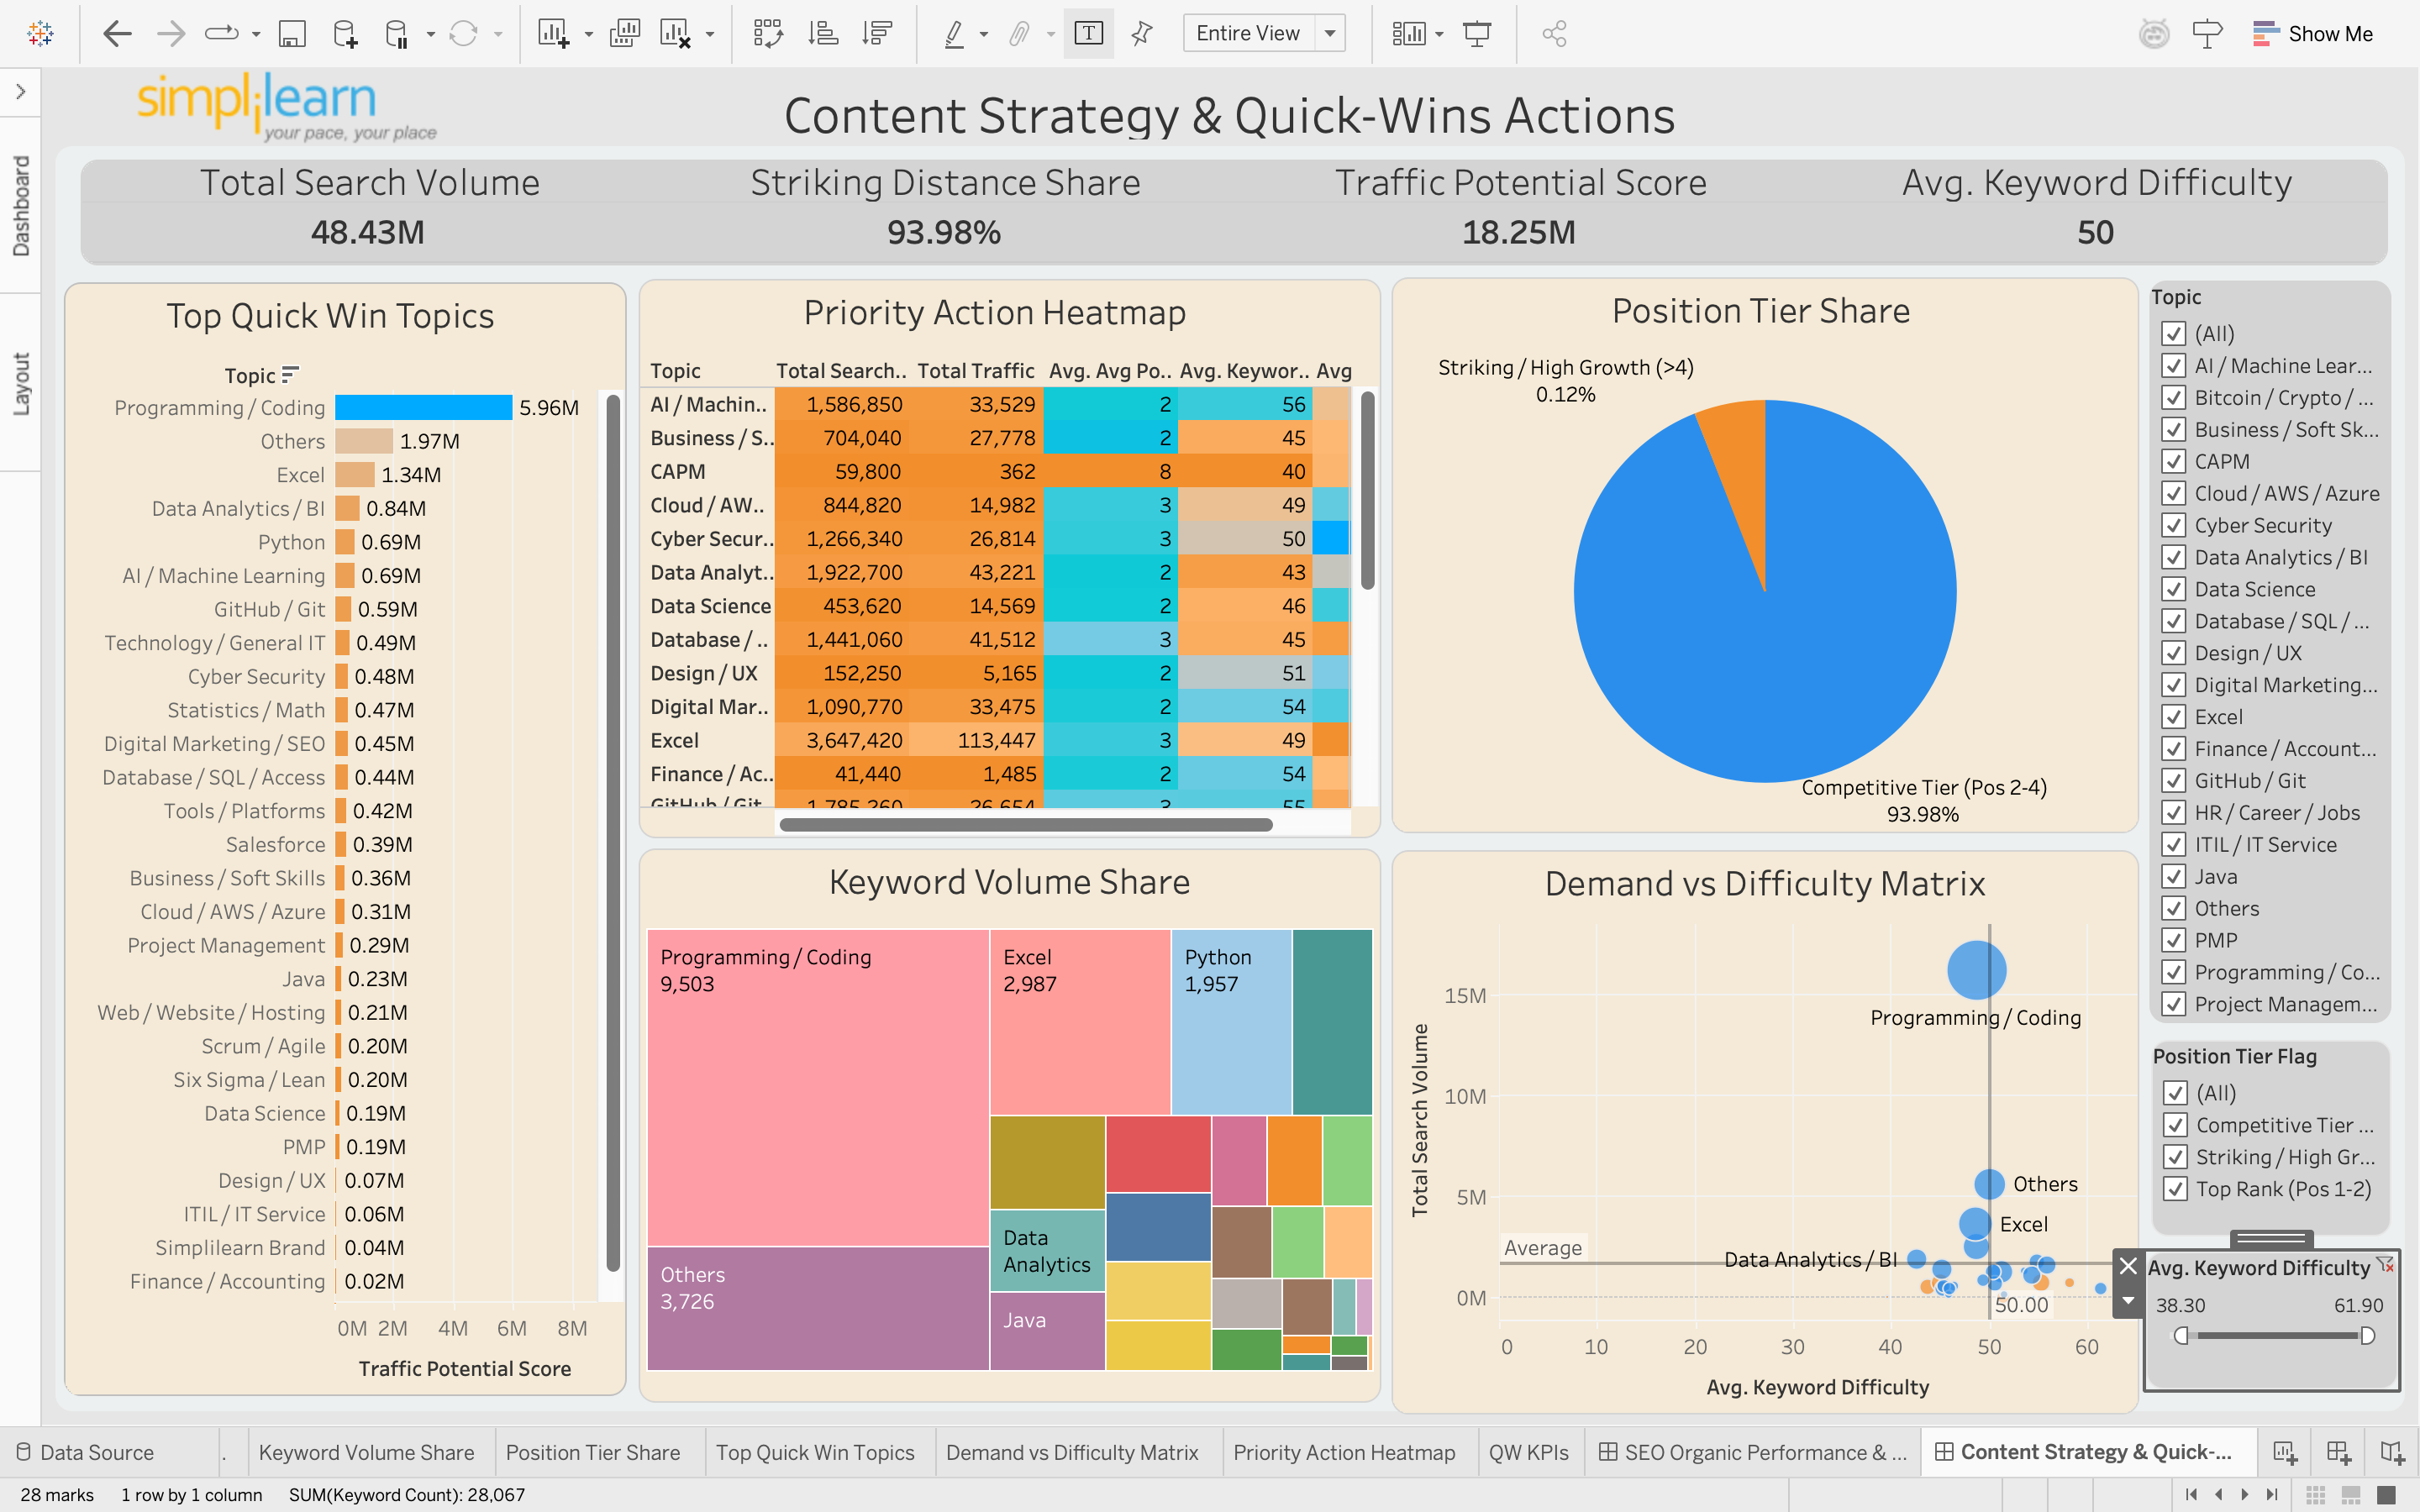

The dashboard page shown, as its layout file describes it:
{"tool":"tableau","page":{"name":"Content Strategy & Quick-Wins Actions","canvas":[1000,1000],"units":"permille","ordinal":0},"visuals":[{"type":"title","box":[5.7,11.5,988.7,47.6]},{"type":"worksheet","title":"QW KPIs","mark":"Text","box":[16.3,67.8,970.8,77.9]},{"type":"worksheet","title":"Position Tier Share ","mark":"Pie","box":[568.2,154.4,314.4,409.8]},{"type":"worksheet","title":"Priority Action Heatmap","mark":"Square","rows":["topic"],"box":[251.4,155.8,312.8,412.7]},{"type":"filter","title":"Top Quick Win Topics","param":"[federated.0kad7l11gxtscz1e6xurk1t6pcoy].[none:topic:nk]","box":[886.8,157.3,102.1,546.9]},{"type":"worksheet","title":"Top Quick Win Topics","mark":"Automatic","rows":["topic"],"cols":["Calculation_0409262064615433"],"box":[9.5,158.7,237.2,821.1]},{"type":"worksheet","title":"Keyword Volume Share","mark":"Square","box":[251.4,575.8,312.8,408.4]},{"type":"worksheet","title":"Demand vs Difficulty Matrix","mark":"Circle","rows":["total_search_volume"],"cols":["average_keyword_difficulty"],"box":[567.8,577.2,314.8,415.6]},{"type":"filter","title":"Position Tier Share ","param":"[federated.0kad7l11gxtscz1e6xurk1t6pcoy].[none:Calculation_0409262062428168:nk]","box":[887.6,717.2,101.2,144.3]},{"type":"filter","title":"Demand vs Difficulty Matrix","param":"[federated.0kad7l11gxtscz1e6xurk1t6pcoy].[avg:average_keyword_difficulty:qk]","box":[885.1,873,106.4,101]}]}

Visuals, with their boxes on the dashboard's canvas, which has no fixed pixel size, in thousandths of its width and height (x1, y1, x2, y2). These are canvas units, not pixel positions in the 2420x1512 screenshot, which may show the page scaled, cropped or inside an application window:
title: <bbox>6, 12, 994, 59</bbox>
"QW KPIs" worksheet (Text marks): <bbox>16, 68, 987, 146</bbox>
"Position Tier Share " worksheet (Pie marks): <bbox>568, 154, 883, 564</bbox>
"Priority Action Heatmap" worksheet (Square marks): <bbox>251, 156, 564, 568</bbox>
"Top Quick Win Topics" filter: <bbox>887, 157, 989, 704</bbox>
"Top Quick Win Topics" worksheet: <bbox>10, 159, 247, 980</bbox>
"Keyword Volume Share" worksheet (Square marks): <bbox>251, 576, 564, 984</bbox>
"Demand vs Difficulty Matrix" worksheet (Circle marks): <bbox>568, 577, 883, 993</bbox>
"Position Tier Share " filter: <bbox>888, 717, 989, 862</bbox>
"Demand vs Difficulty Matrix" filter: <bbox>885, 873, 992, 974</bbox>
